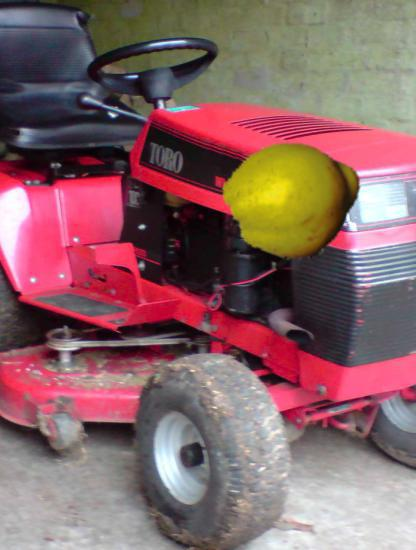Quince: (224, 129, 364, 269)
